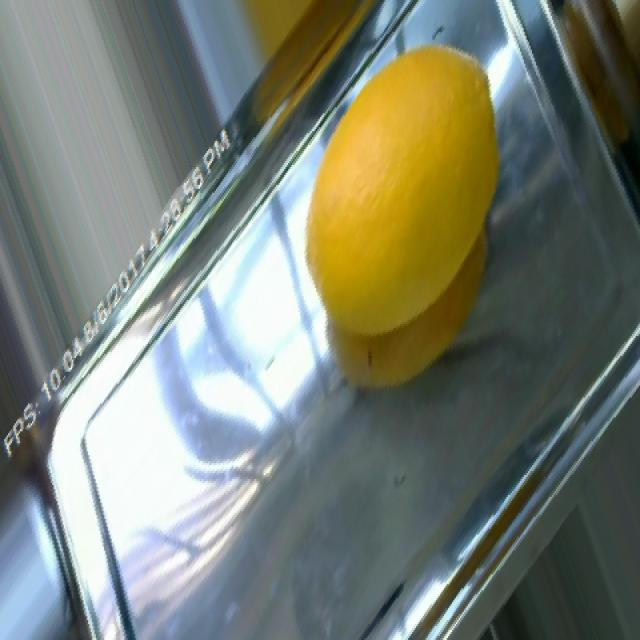Fruit: (294, 26, 514, 407)
